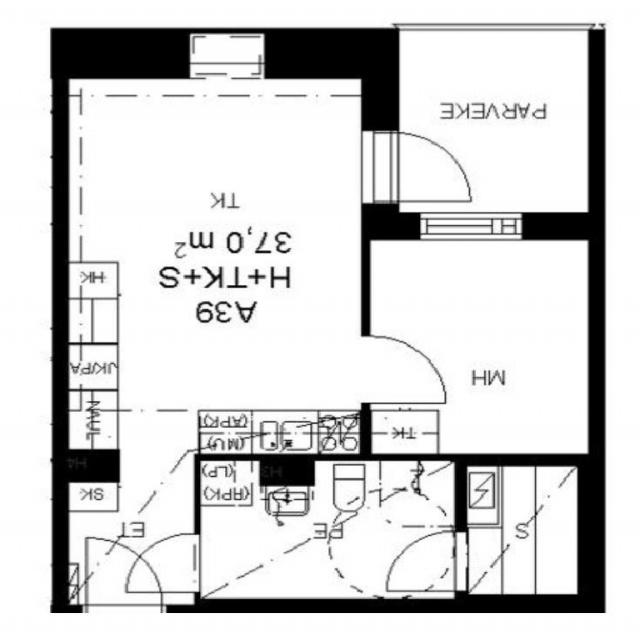door: (361, 132, 477, 201), (86, 537, 162, 613), (361, 336, 446, 402), (387, 532, 468, 592), (128, 534, 201, 592)
